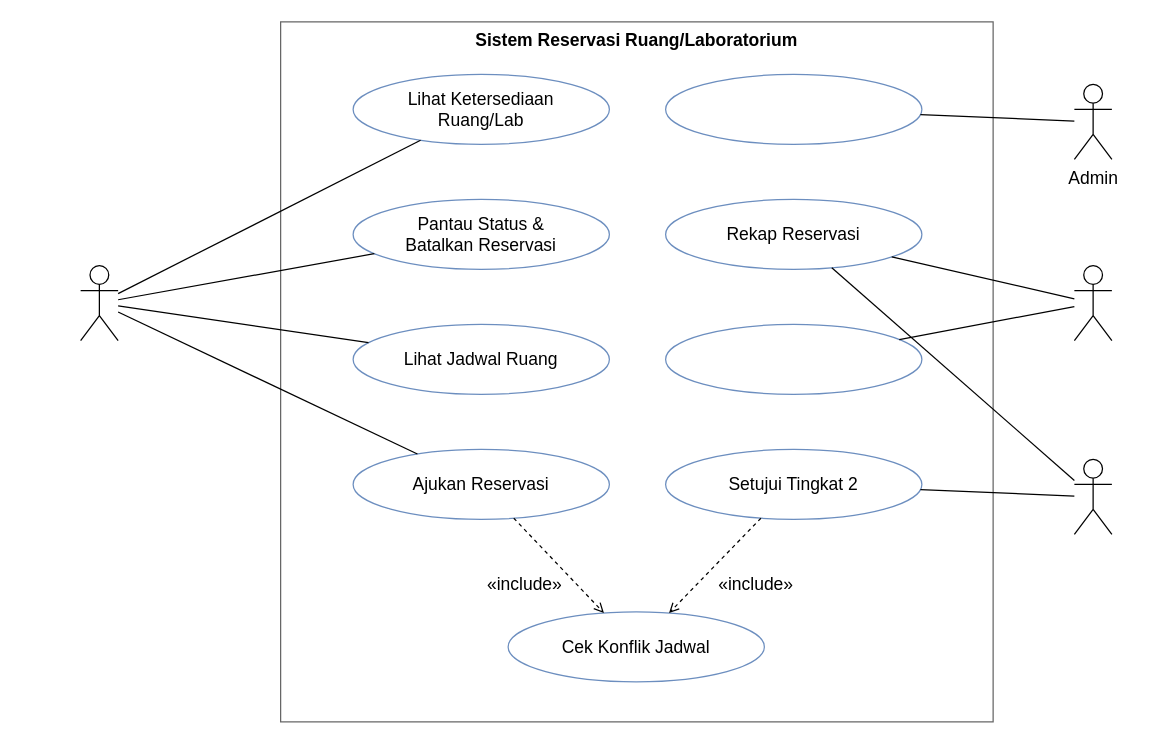
Image size: 1159x754. Some labels were removed from this diagram. Here are the shapes that lost their labels. From the top down, the centre of each, then its label:
At point (793, 108): "Kelola Data Ruang/Lab".
At point (98, 302): "Pemohon (Mahasiswa/Dosen)".
At point (1092, 302): "Koordinator Lab".
At point (793, 358): "Verifikasi Tingkat 1".
At point (1092, 496): "Kaprodi".
